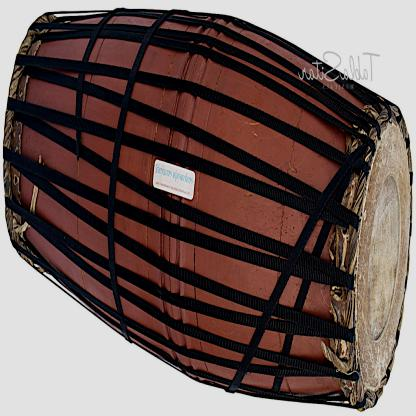Mridangam: (1, 6, 414, 412)
